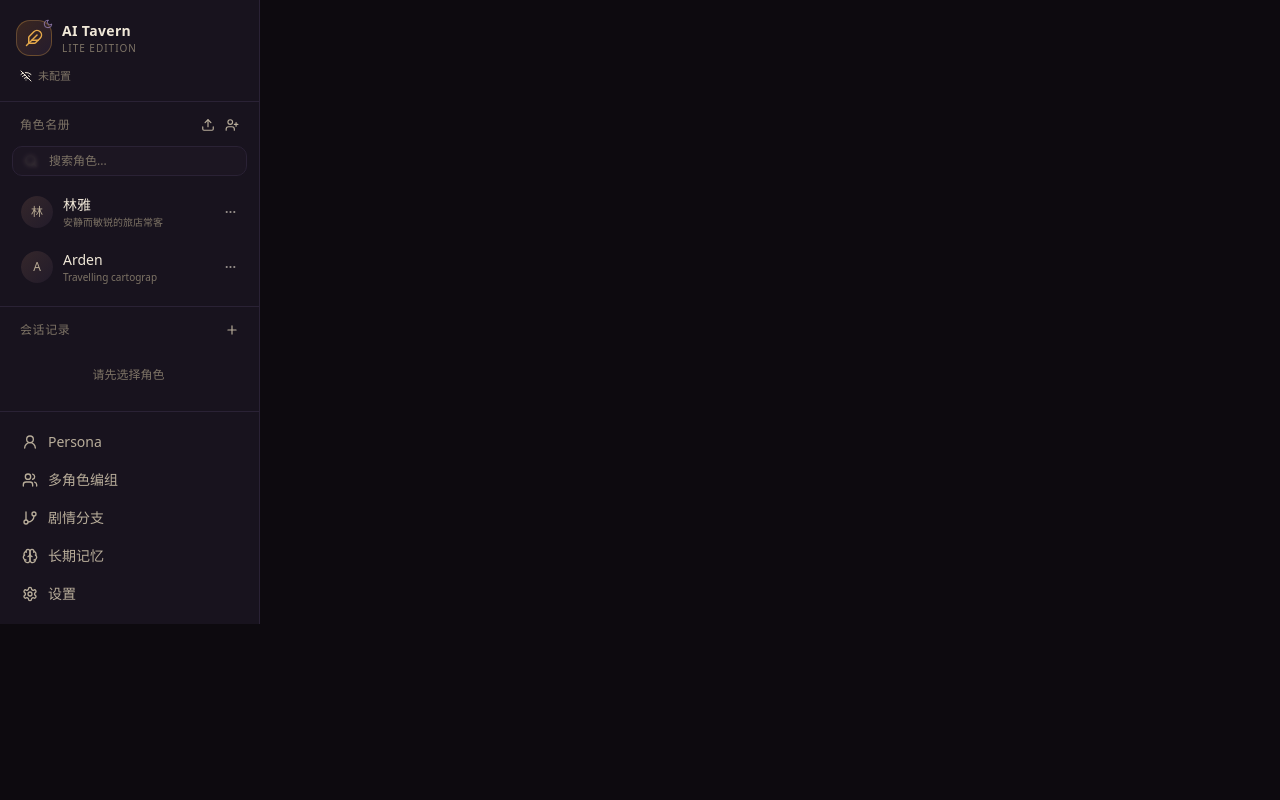
Test: Sidebar › opens the built-in character creator
Click the button titled "新建角色".
click(232, 124)  # box [221, 114, 243, 136]
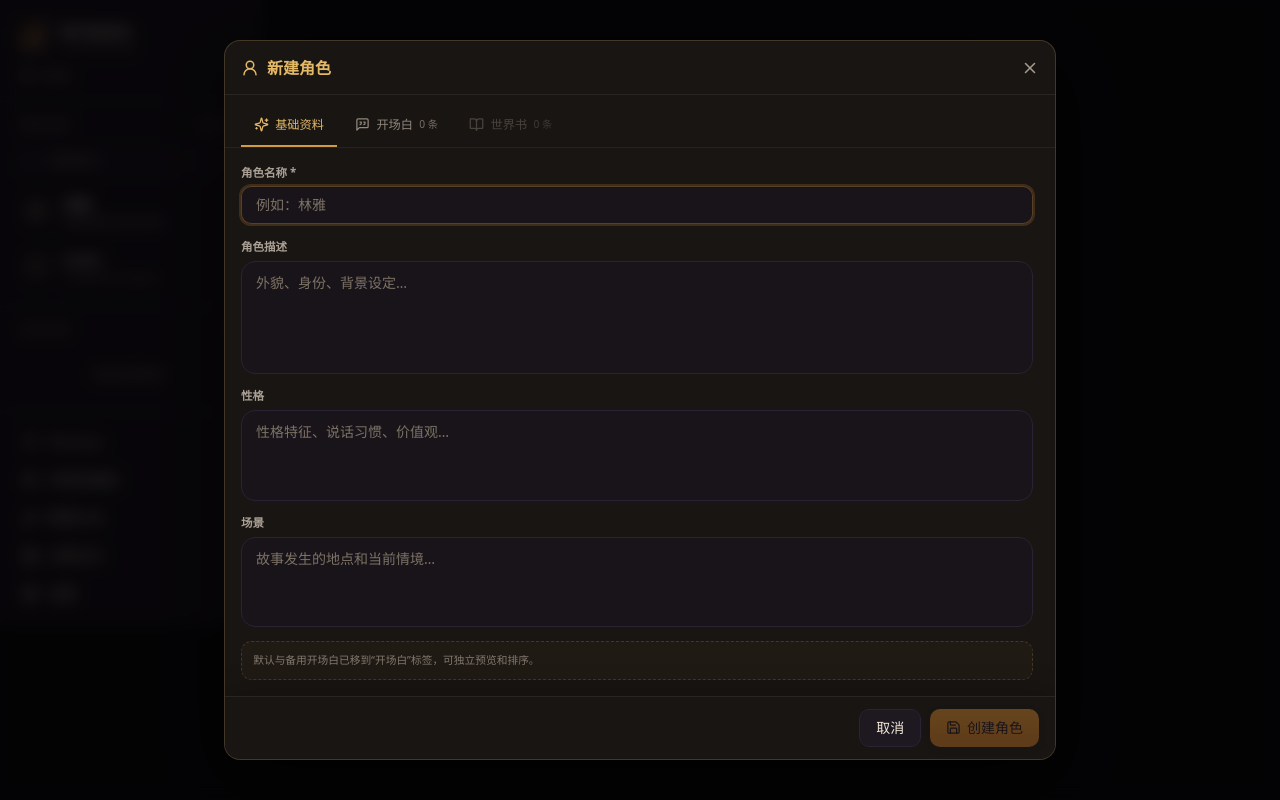
Now the dialog "新建角色" is shown, box [224, 40, 1056, 760]
Now the button "创建角色" is disabled, box [930, 709, 1039, 747]
